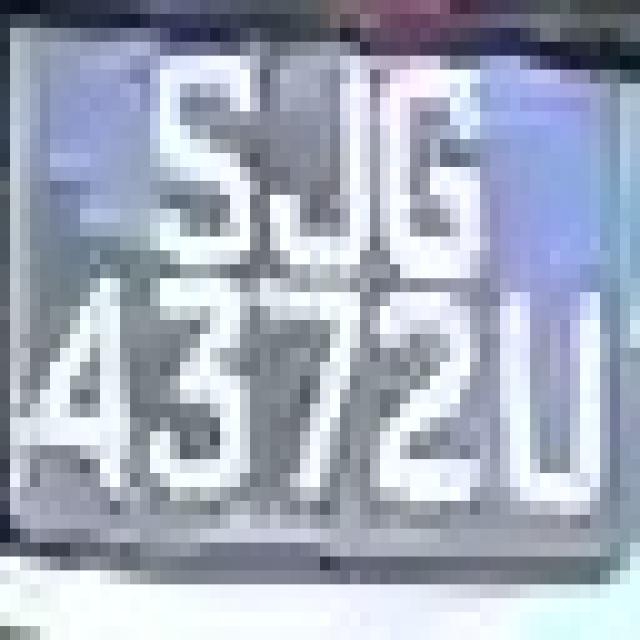2: (380, 250, 490, 529)
3: (130, 264, 250, 543)
4: (0, 236, 150, 528)
7: (250, 250, 380, 542)
G: (370, 28, 490, 306)
J: (260, 14, 380, 292)
S: (120, 14, 280, 292)
U: (480, 250, 620, 556)
